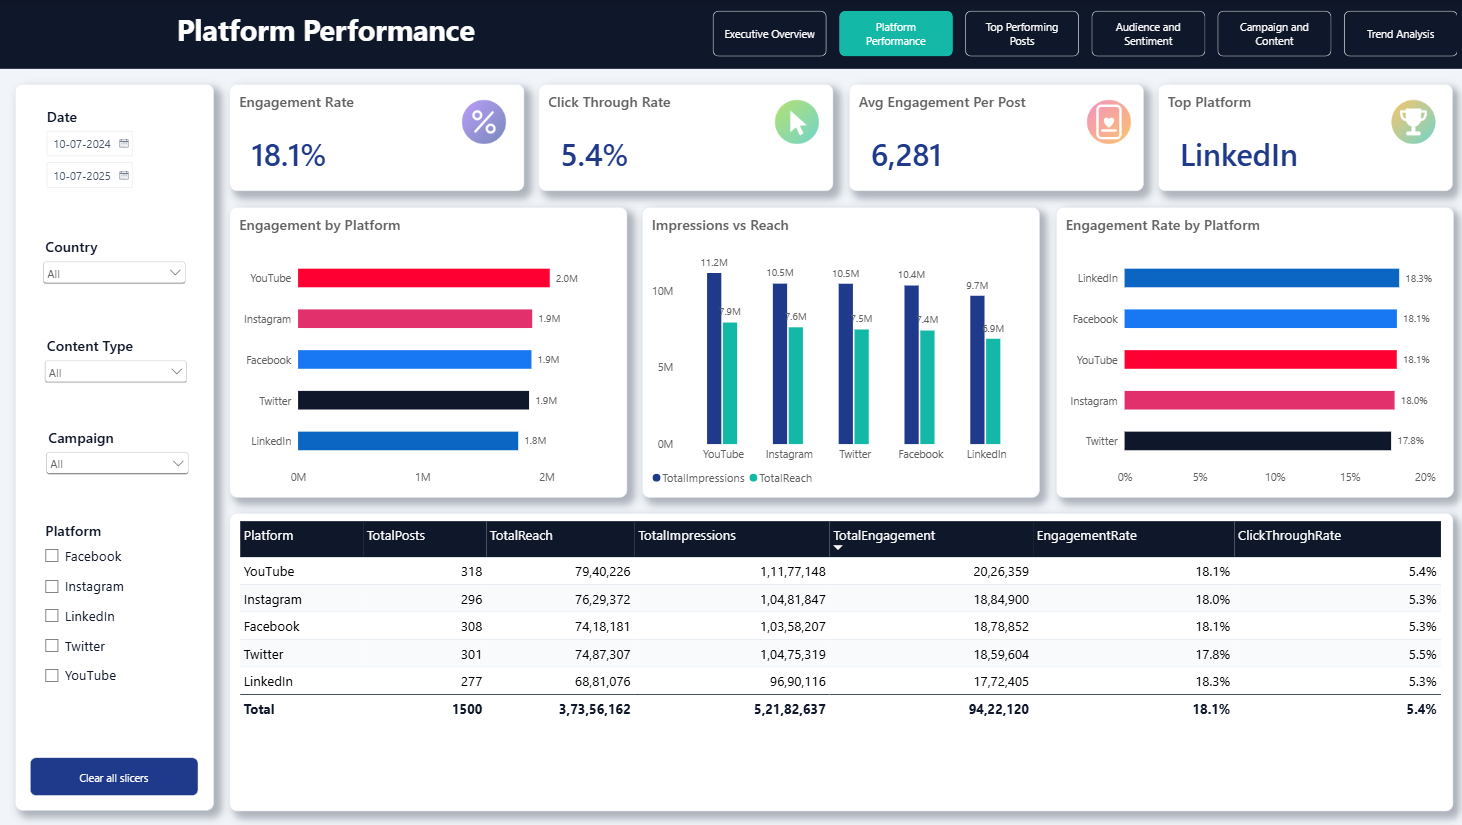

The page's visual inventory and layout, read from the dashboard file:
{"tool":"powerbi","page":{"name":"Platform Performance","canvas":[1920,1080],"ordinal":1},"visuals":[{"type":"clusteredBarChart","title":"Engagement by Platform","fields":{"Category":["SocialMediaInsights.Platform"],"Y":["SocialMediaInsights.TotalEngagement"]},"box":[300,270,520,380],"z":0},{"type":"clusteredColumnChart","title":"Impressions vs Reach","fields":{"Category":["SocialMediaInsights.Platform"],"Y":["SocialMediaInsights.TotalImpressions","SocialMediaInsights.TotalReach"]},"box":[840,270,520,380],"z":1000},{"type":"barChart","title":"Engagement Rate by Platform","fields":{"Category":["SocialMediaInsights.Platform"],"Y":["SocialMediaInsights.EngagementRate"]},"box":[1380,270,520,380],"z":2000},{"type":"tableEx","fields":{"Values":["SocialMediaInsights.Platform","SocialMediaInsights.TotalPosts","SocialMediaInsights.TotalReach","SocialMediaInsights.TotalImpressions","SocialMediaInsights.TotalEngagement","SocialMediaInsights.EngagementRate","SocialMediaInsights.ClickThroughRate"]},"box":[300,670,1600,390],"z":3000},{"type":"shape","box":[0,0,1920,90],"z":4000},{"type":"textbox","box":[34.1,4.5,785,90],"z":5000},{"type":"shape","box":[20,110,260,950],"z":6000},{"type":"pageNavigator","box":[919,4.3,1000,80],"z":7000},{"type":"slicer","fields":{"Values":["DateTable.Date"]},"box":[40.9,130,218,165.8],"z":8000},{"type":"slicer","fields":{"Values":["SocialMediaInsights.Country"]},"box":[40,300,220,100],"z":9000},{"type":"slicer","fields":{"Values":["SocialMediaInsights.ContentType"]},"box":[40.9,430,220,100],"z":10000},{"type":"slicer","fields":{"Values":["SocialMediaInsights.Campaign"]},"box":[43.2,550,220,100],"z":11000},{"type":"slicer","fields":{"Values":["SocialMediaInsights.Platform"]},"box":[38.6,670,220,250],"z":12000},{"type":"actionButton","box":[40,990,220,50],"z":13000},{"type":"cardVisual","title":"Top Platform","fields":{"Data":["DateTable.Top Platform"]},"box":[1515,110,385,140],"z":14000},{"type":"cardVisual","title":"Avg Engagement Per Post","fields":{"Data":["SocialMediaInsights.AvgEngagementPerPost"]},"box":[1110,110,385,140],"z":15000},{"type":"cardVisual","title":"Engagement Rate","fields":{"Data":["SocialMediaInsights.EngagementRate"]},"box":[300,110,385,140],"z":16000},{"type":"cardVisual","title":"Click Through Rate","fields":{"Data":["SocialMediaInsights.ClickThroughRate"]},"box":[705,110,385,140],"z":17000},{"type":"image","box":[600,130,65,60],"z":18000},{"type":"image","box":[1012.5,130,60,60],"z":19000},{"type":"image","box":[1420,130,60,60],"z":20000},{"type":"image","box":[1817.5,130,60,60],"z":21000}]}

Visuals, with their boxes in screenshot pixels (x1, y1, x2, y2), scaled from the page's 1920x1080 canvas onto the 1462x825 screenshot:
"Engagement by Platform" clusteredBarChart: box(228, 206, 624, 497)
"Impressions vs Reach" clusteredColumnChart: box(640, 206, 1036, 497)
"Engagement Rate by Platform" barChart: box(1051, 206, 1447, 497)
tableEx - SocialMediaInsights.Platform x SocialMediaInsights.TotalPosts: box(228, 512, 1447, 810)
shape: box(0, 0, 1461, 69)
textbox: box(26, 3, 624, 72)
shape: box(15, 84, 213, 810)
pageNavigator: box(700, 3, 1461, 64)
slicer - DateTable.Date: box(31, 99, 197, 226)
slicer - SocialMediaInsights.Country: box(30, 229, 198, 306)
slicer - SocialMediaInsights.ContentType: box(31, 328, 199, 405)
slicer - SocialMediaInsights.Campaign: box(33, 420, 200, 497)
slicer - SocialMediaInsights.Platform: box(29, 512, 197, 703)
actionButton: box(30, 756, 198, 794)
"Top Platform" cardVisual: box(1154, 84, 1447, 191)
"Avg Engagement Per Post" cardVisual: box(845, 84, 1138, 191)
"Engagement Rate" cardVisual: box(228, 84, 522, 191)
"Click Through Rate" cardVisual: box(537, 84, 830, 191)
image: box(457, 99, 506, 145)
image: box(771, 99, 817, 145)
image: box(1081, 99, 1127, 145)
image: box(1384, 99, 1430, 145)
